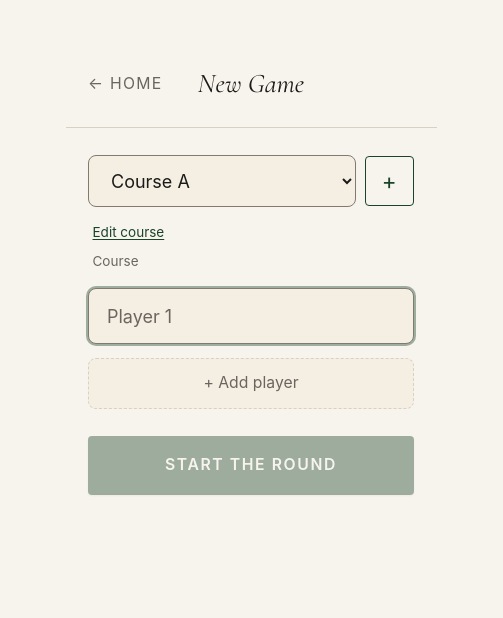
it: Setup — "+ New course" button (#35) › "Cancel" in creation mode returns to the select view
The width and height of the screenshot is (503, 618).
Expected: the dropdown showing "Course A" is shown, [88,155,356,207]
Click the button named "new course".
click(389, 181)  # box [364,156,414,206]
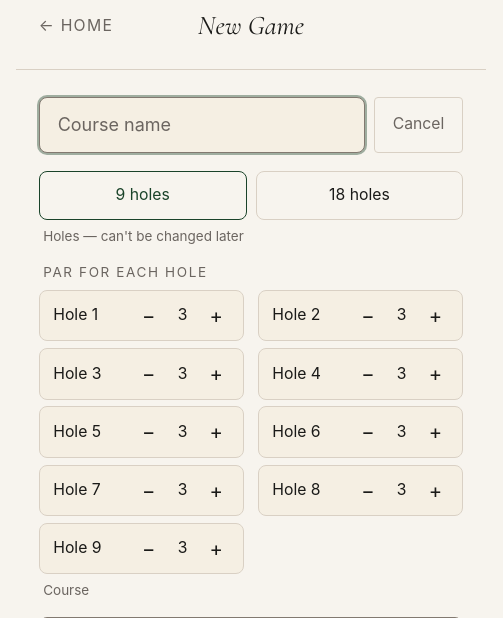
Click the button "Cancel".
click(419, 124)  # box [374,96,463,152]
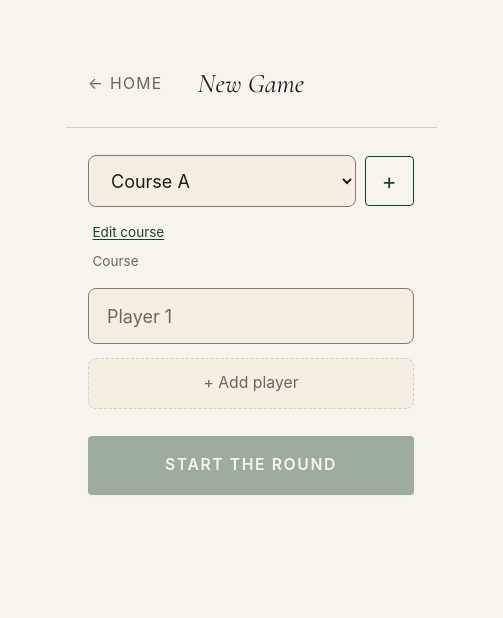
Expected: the field with placeholder "Course name" is not shown
Result: the dropdown showing "Course A" is shown at [88,155,356,207]
